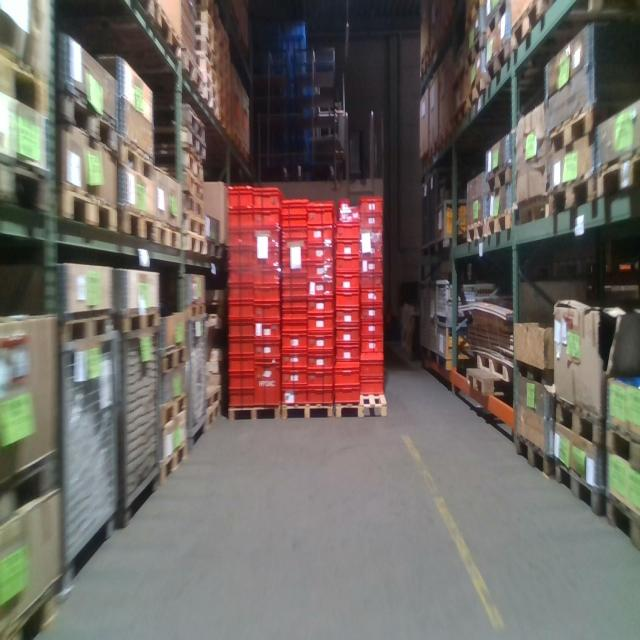pallet: (54, 75, 120, 162), (4, 450, 65, 534), (4, 563, 68, 634), (3, 47, 59, 124), (56, 177, 119, 239), (554, 453, 605, 520), (548, 101, 609, 157), (1, 156, 57, 217), (553, 389, 603, 456), (46, 309, 119, 353), (548, 168, 606, 222), (598, 399, 640, 473), (510, 0, 561, 57), (593, 148, 639, 208), (116, 127, 161, 183), (511, 422, 553, 478), (602, 490, 638, 551), (121, 200, 156, 258), (335, 387, 389, 422), (466, 348, 517, 385), (463, 365, 513, 401), (154, 437, 189, 487), (485, 36, 513, 97), (112, 305, 163, 338), (513, 355, 560, 388), (225, 398, 280, 426), (466, 66, 495, 117), (157, 2, 181, 61), (180, 45, 203, 106), (280, 401, 332, 426), (157, 392, 188, 433), (464, 30, 493, 70), (154, 341, 186, 377), (519, 193, 550, 230), (482, 160, 514, 194), (156, 215, 181, 256), (486, 208, 515, 239), (465, 0, 491, 30), (202, 399, 224, 433), (484, 2, 509, 30), (123, 1, 156, 21), (465, 216, 486, 247), (200, 383, 226, 408), (183, 236, 209, 259), (183, 132, 206, 158), (181, 300, 210, 320), (182, 171, 204, 197), (183, 214, 206, 237), (182, 152, 204, 176), (183, 195, 206, 217), (208, 240, 224, 255)
small_load_carrier: (254, 359, 283, 406), (334, 360, 361, 387), (228, 209, 256, 233), (308, 204, 335, 227), (282, 332, 309, 355), (228, 187, 255, 210), (255, 189, 283, 211), (254, 227, 283, 248), (228, 301, 255, 323), (254, 338, 282, 359), (252, 266, 281, 286), (358, 354, 384, 376), (277, 387, 306, 406), (252, 286, 281, 305), (308, 227, 334, 248), (229, 250, 255, 271), (309, 348, 334, 369), (228, 372, 254, 392), (334, 387, 361, 406), (308, 314, 335, 333), (227, 389, 254, 408), (281, 369, 309, 387), (253, 305, 281, 323), (336, 221, 360, 241), (336, 307, 360, 327), (358, 376, 384, 394), (254, 211, 283, 227), (254, 249, 281, 266), (228, 233, 256, 249), (335, 273, 361, 290), (309, 298, 335, 315), (253, 323, 282, 338), (336, 256, 361, 273), (309, 247, 334, 264), (309, 264, 334, 281), (309, 281, 334, 298), (229, 339, 254, 356), (228, 323, 254, 339), (280, 285, 307, 300), (335, 290, 360, 306), (229, 356, 254, 372), (230, 285, 255, 301), (229, 271, 255, 286), (360, 197, 384, 213), (308, 387, 332, 403), (282, 355, 309, 369), (307, 372, 332, 387), (360, 321, 382, 338), (360, 339, 384, 354), (308, 333, 332, 348), (360, 305, 382, 321), (338, 341, 360, 357), (282, 308, 307, 322), (360, 217, 384, 231), (336, 241, 360, 255), (283, 237, 307, 251), (361, 243, 383, 258), (360, 291, 383, 305), (336, 327, 359, 341), (362, 260, 383, 275), (286, 202, 304, 219), (361, 278, 383, 291), (361, 231, 384, 243), (282, 322, 309, 332), (281, 227, 307, 237), (285, 274, 307, 285), (284, 251, 304, 263), (280, 300, 307, 308), (285, 263, 304, 274), (281, 219, 304, 227)
stillage: (58, 327, 127, 603), (117, 318, 168, 535), (427, 163, 480, 249), (184, 309, 212, 450), (436, 279, 506, 324), (435, 197, 477, 251), (436, 326, 479, 375), (418, 182, 431, 253), (417, 280, 428, 360), (428, 282, 436, 364)
